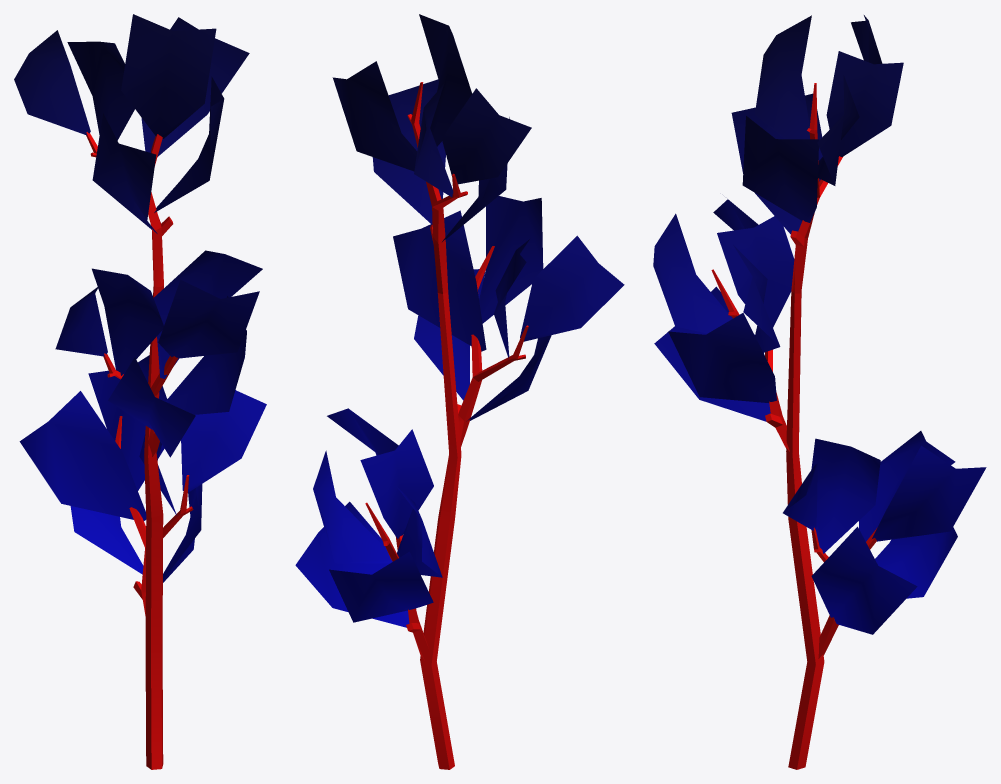
The model's file is SM_Tree_Dead_01.fbx.
The picture shows the model from 3 angles, left to right: view 1: azimuth 30°, elevation 25°; view 2: azimuth 150°, elevation 25°; view 3: azimuth 270°, elevation 25°; orthographic projection.
Parts seen in each view (by area): view 1: SM_Tree_Dead_01; view 2: SM_Tree_Dead_01; view 3: SM_Tree_Dead_01.
Boxes of the visible parts, bbox=[...] form: SM_Tree_Dead_01: bbox=[14, 14, 266, 769]; SM_Tree_Dead_01: bbox=[295, 14, 624, 769]; SM_Tree_Dead_01: bbox=[653, 15, 986, 769].
Size of the model in its own units: 125 by 350 by 142.
